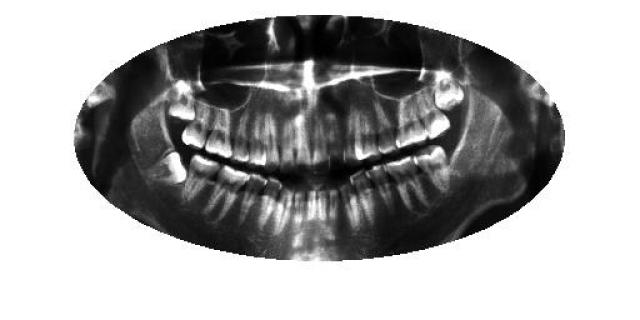Restorations: (142, 151, 188, 191), (432, 74, 468, 114), (168, 88, 196, 122)
